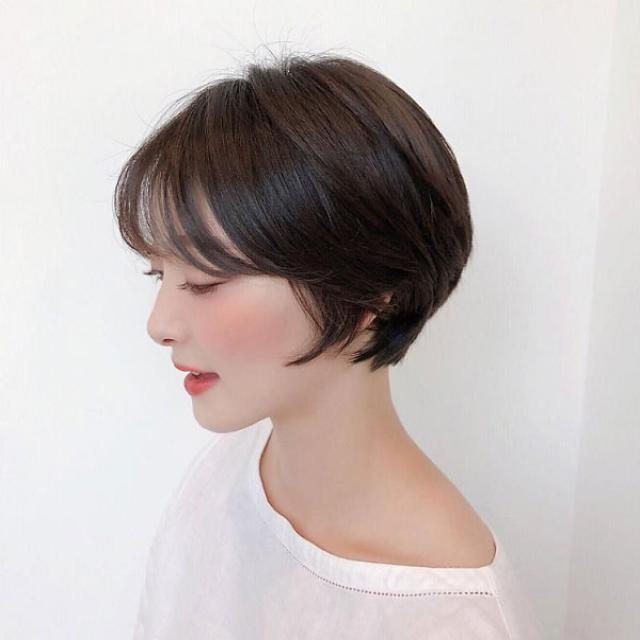Nonhelmet: (97, 27, 470, 445)
